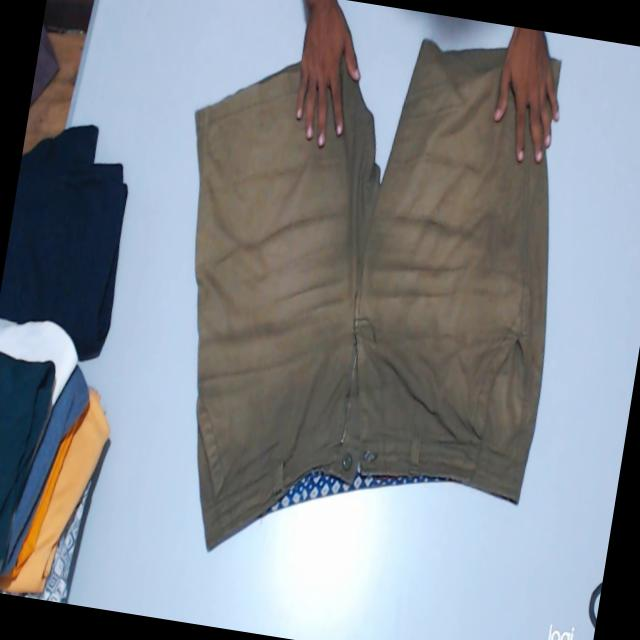new-garment: (195, 41, 548, 549)
